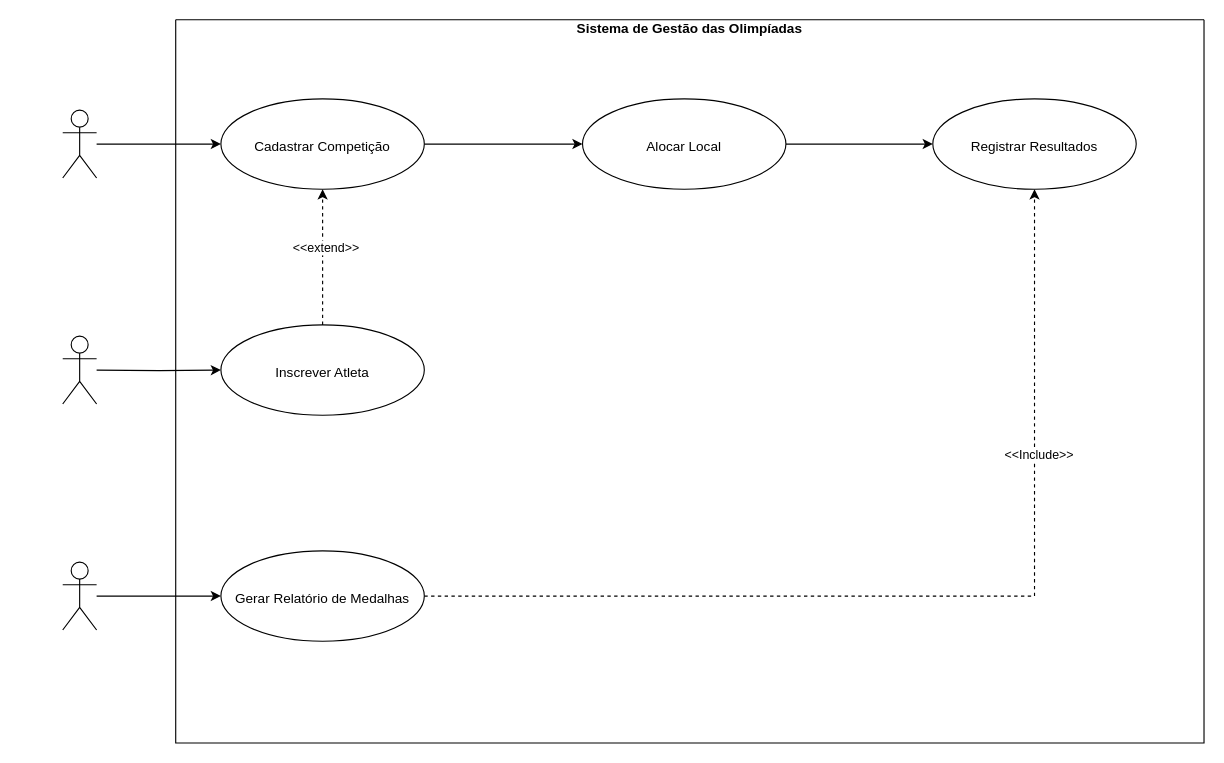
Some shapes in this 1224 by 763 pixel diagram are drawn without their labels. Here are the shapes that lost their labels. From the top down, the centre of each, then its label:
At (79,143): "Administrador".
At (79,369): "Atleta".
At (79,595): "Comitê Organizador".
